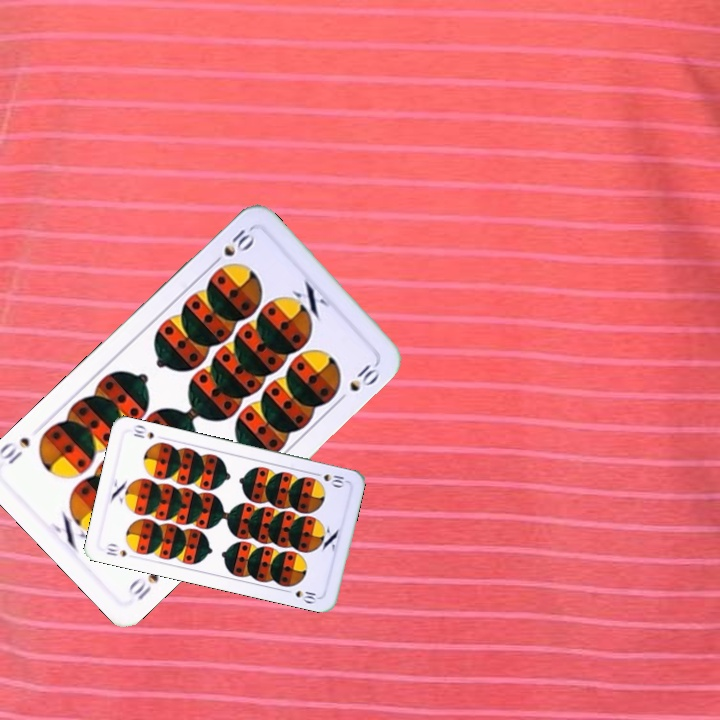S10: (207, 225, 258, 273), (123, 569, 162, 603), (309, 468, 347, 489), (102, 539, 130, 559)
